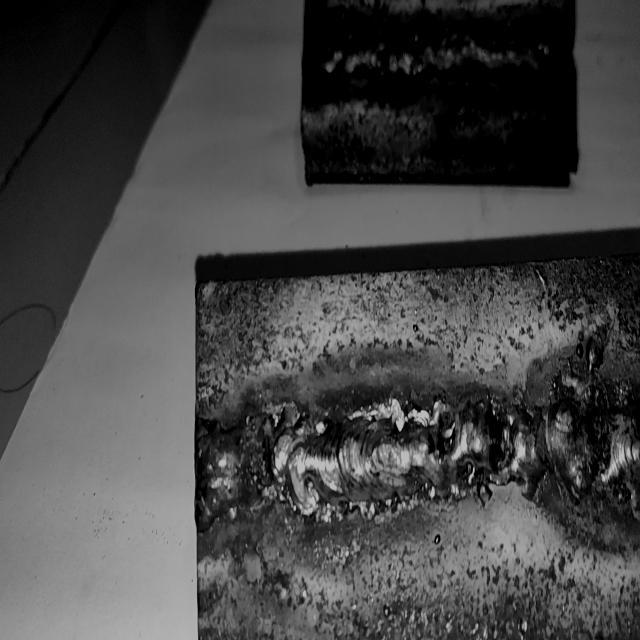Defect: (435, 398, 605, 505), (197, 406, 296, 524)
Welding Line: (202, 393, 640, 519), (312, 31, 572, 78)
Workpiece: (190, 252, 640, 640), (301, 0, 582, 189)
